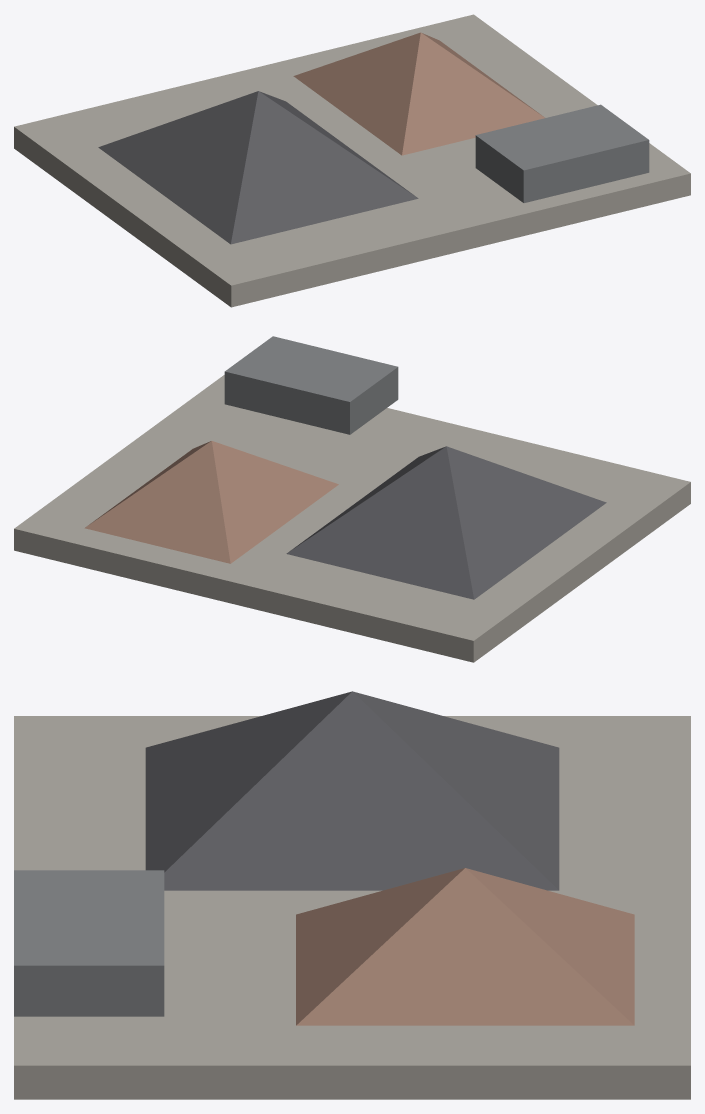
Rendered from ind_aux_patio.glb.
3 views of the same model, one above another, from view 1: azimuth 30°, elevation 25°; view 2: azimuth 150°, elevation 25°; view 3: azimuth 270°, elevation 25° (orthographic). The views are drawn at different scales.
Parts seen in each view (by area): view 1: ind_aux_patio; view 2: ind_aux_patio; view 3: ind_aux_patio.
Part boxes in pixels (box(x1,y1,x2,y2)): ind_aux_patio: box(14, 14, 690, 307); ind_aux_patio: box(14, 336, 690, 662); ind_aux_patio: box(14, 691, 690, 1099).
Bounding box in the file's own units: 0.44 × 0.095 × 0.36.
